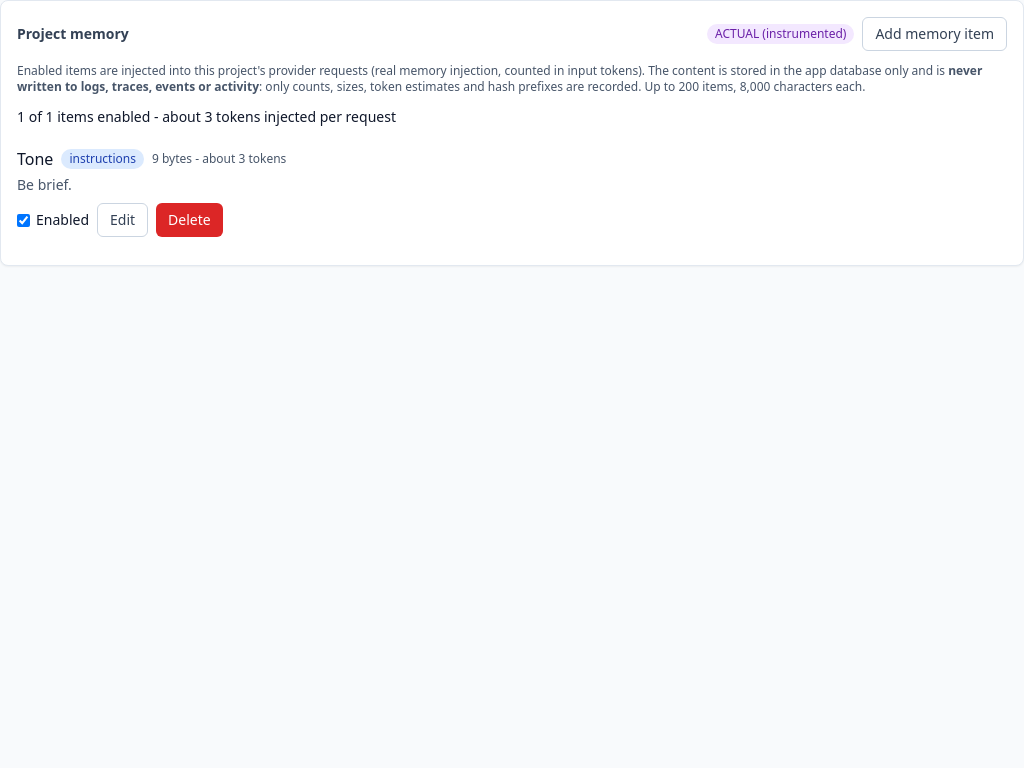
Test: MemoryPanel (memory items) › ADMIN: everything enabled and the add form opens
The width and height of the screenshot is (1024, 768).
Expected: the list item with test id "memory-item" is shown, [17, 148, 286, 237]
Expected: the checkbox with test id "memory-item-toggle" is enabled, [17, 214, 30, 226]
Click the button with test id "memory-add-toggle" at [935, 34], box [862, 17, 1007, 51]
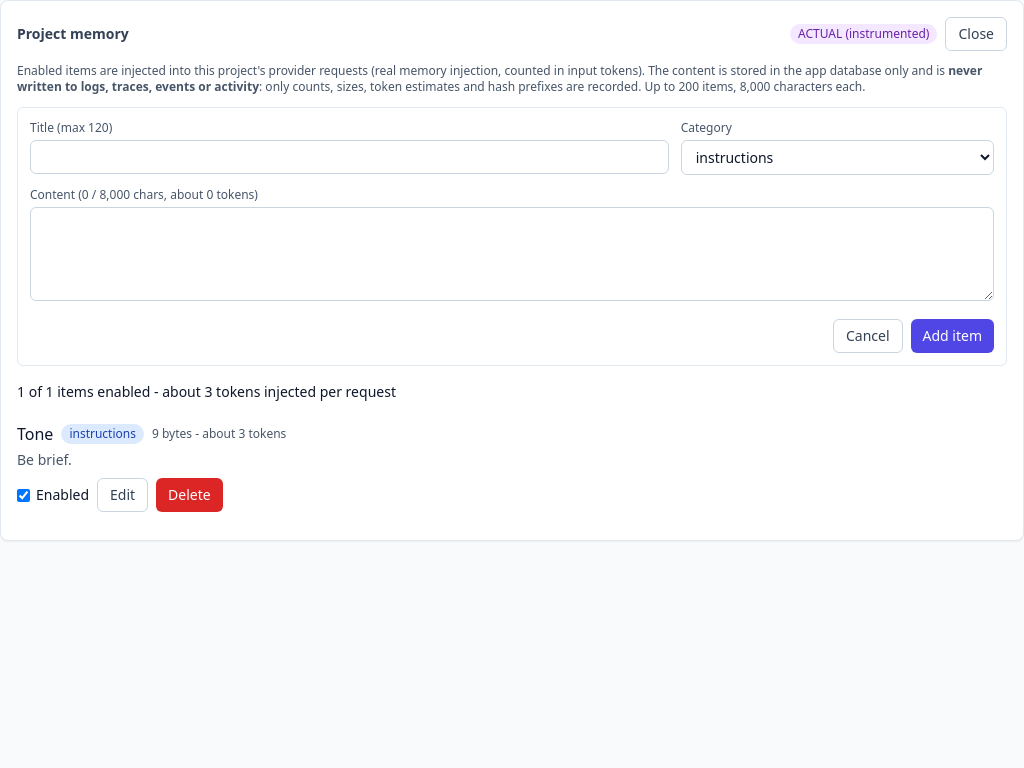
Expected: the button with test id "memory-add-submit" is enabled, [910, 319, 994, 353]
